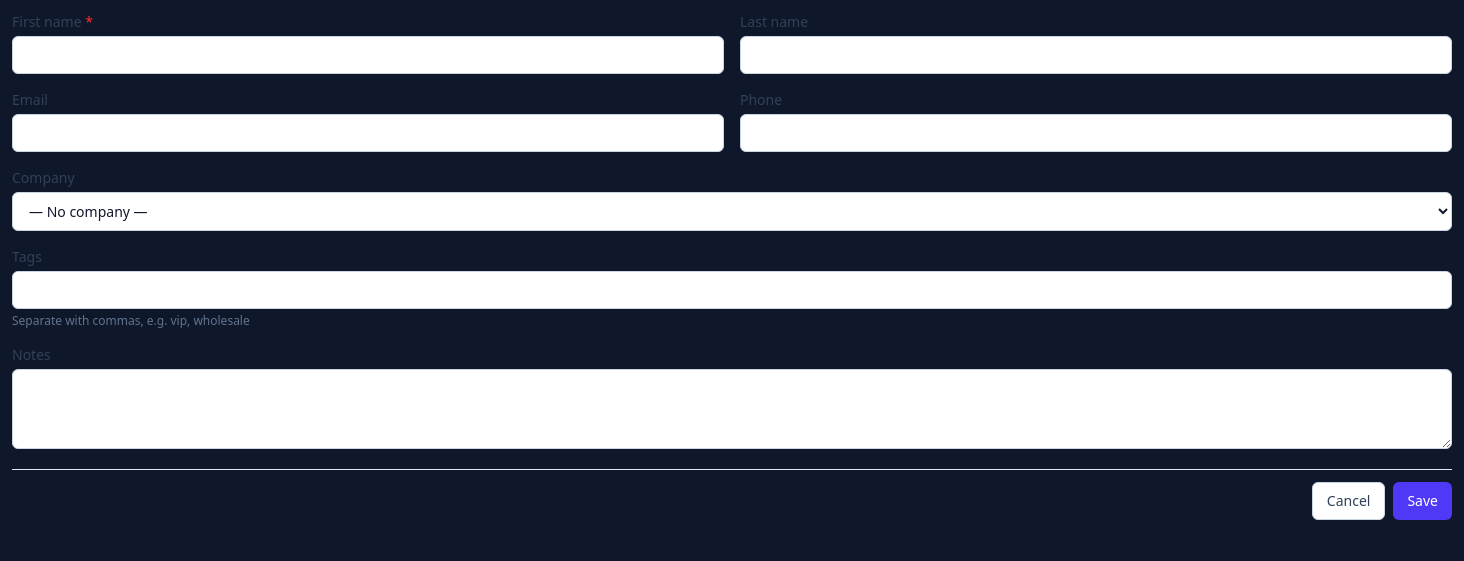
Scenario: <ContactForm> › puts server field errors on the right field
Type "Noy" into the field labelled "First name *" at coordinates (368, 55), box [12,36,724,74]
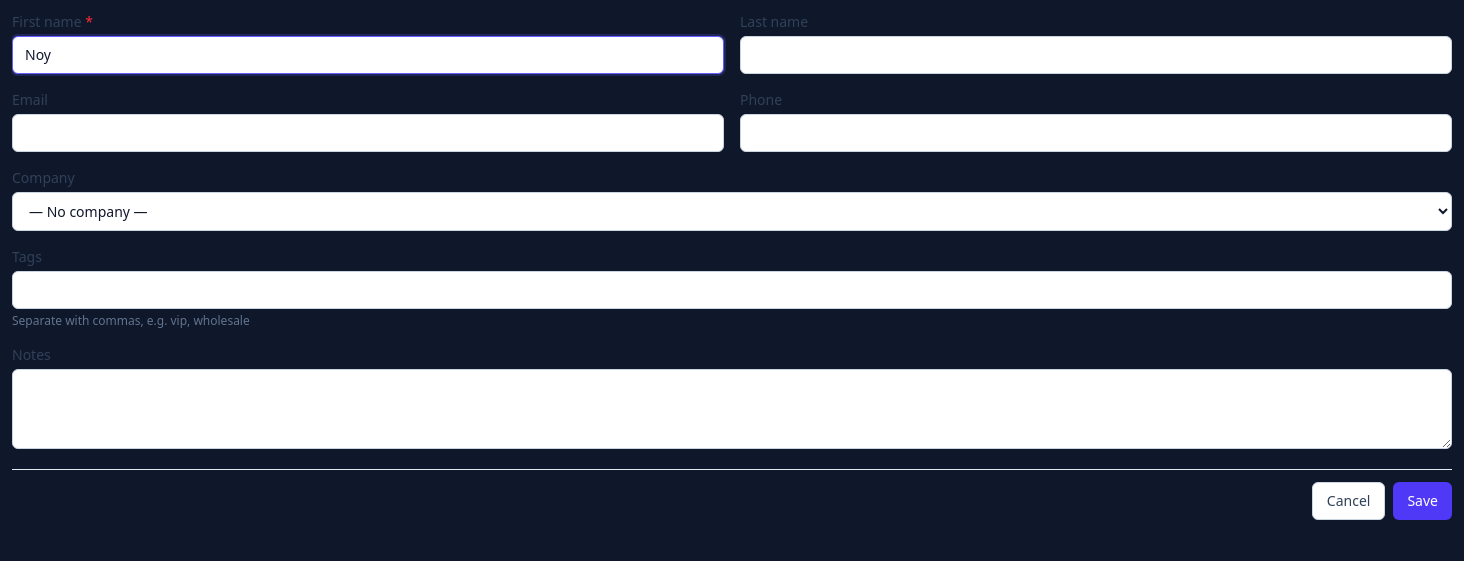
Click the button "Save" at coordinates (1423, 501), box [1393,482,1452,520]
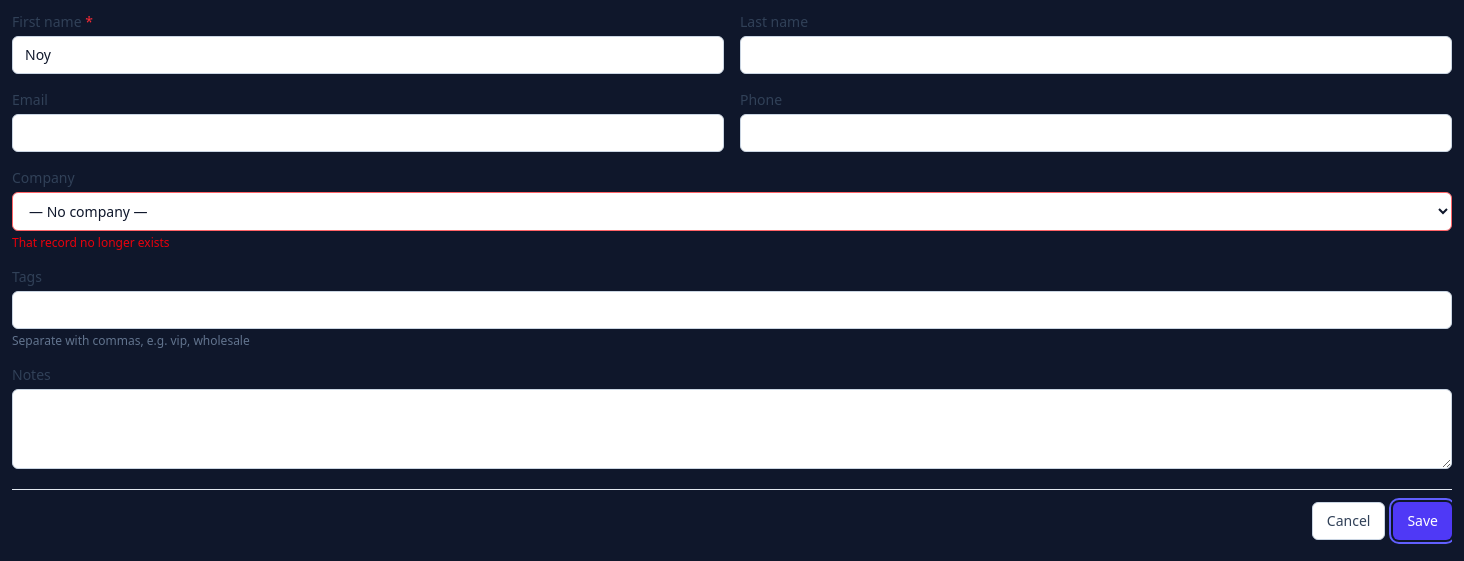
Expected: the text "That record no longer exists" is shown, [12,234,170,251]
